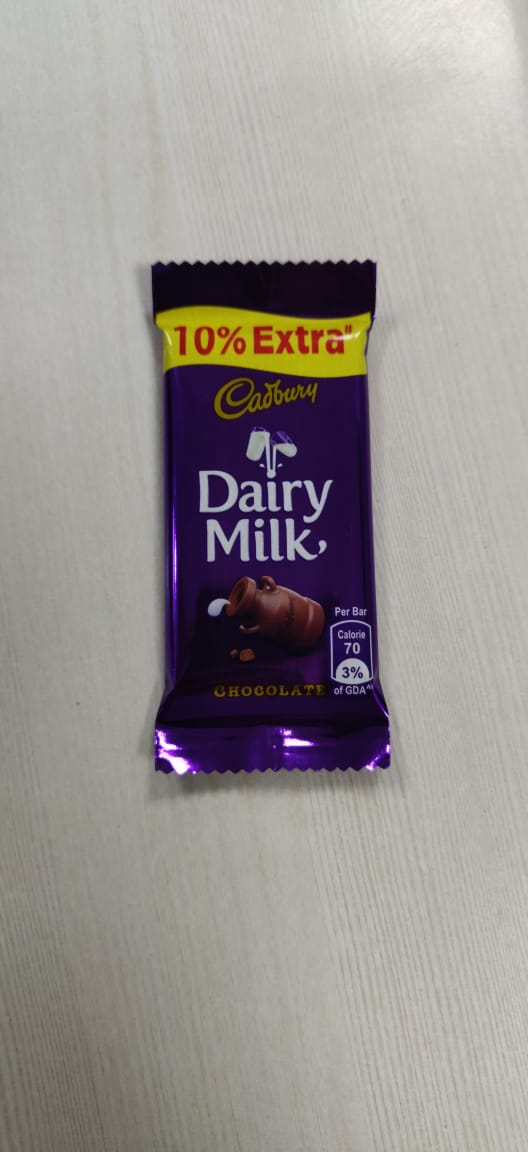dairy milk: (141, 249, 399, 791)
